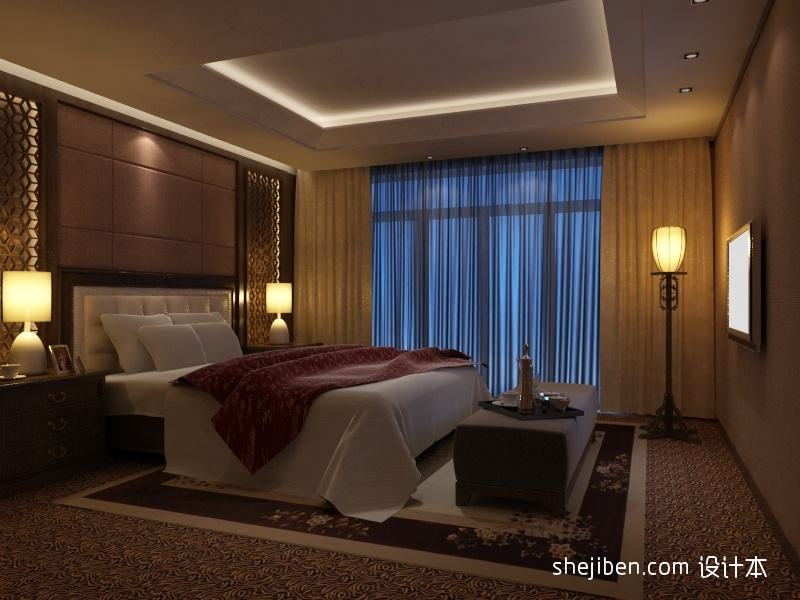床: (120, 338, 480, 514)
枕头: (97, 308, 240, 375)
灯: (0, 269, 53, 382), (647, 223, 687, 286), (258, 280, 296, 345)
